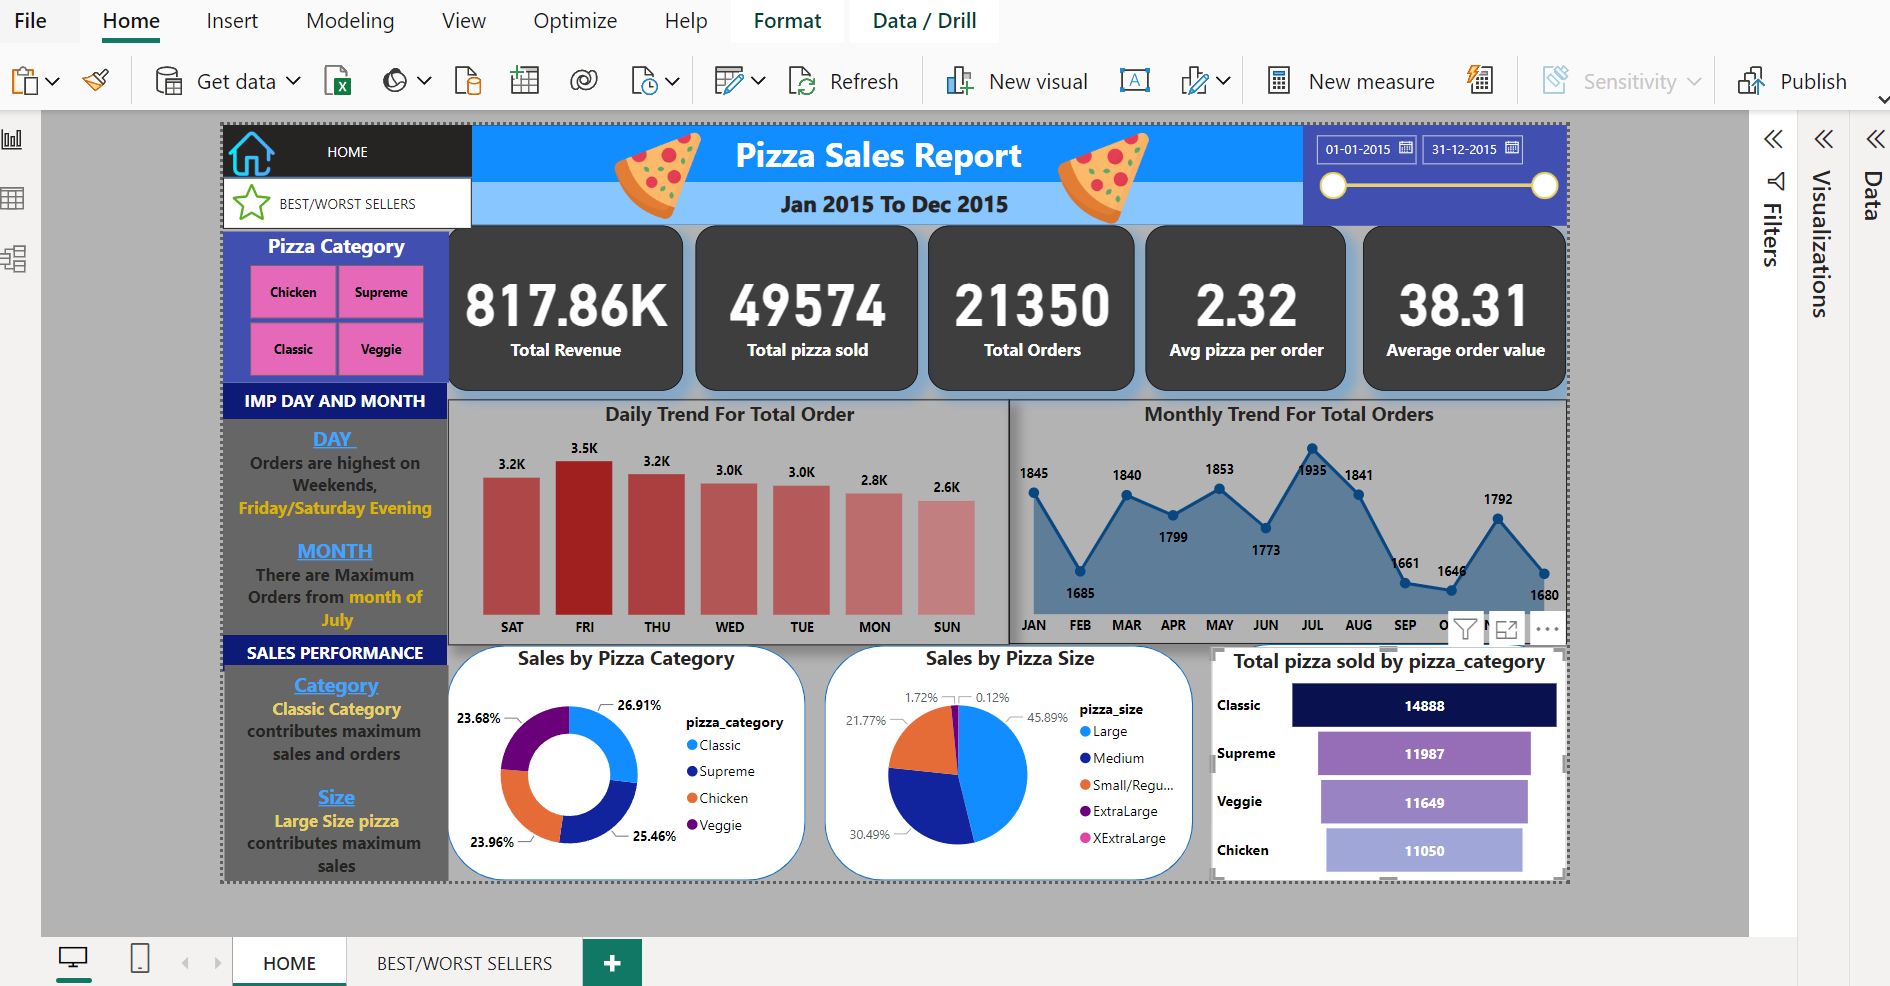

The page's visual inventory and layout, read from the dashboard file:
{"tool":"powerbi","page":{"name":"HOME","canvas":[1280,720],"ordinal":0},"visuals":[{"type":"card","fields":{"Values":["pizza_sales.Total Revenue"]},"box":[213.3,95.3,225.4,157.4],"z":0},{"type":"card","fields":{"Values":["pizza_sales.Total pizza sold"]},"box":[449.4,95.3,211.8,157.4],"z":1000},{"type":"card","fields":{"Values":["pizza_sales.Total Orders"]},"box":[671.8,95.3,196.7,157.4],"z":2000},{"type":"card","fields":{"Values":["pizza_sales.Avg pizza per order"]},"box":[879.1,95.3,190.6,157.4],"z":3000},{"type":"card","fields":{"Values":["pizza_sales.Average order value"]},"box":[1086.3,95.3,193.7,157.4],"z":4000},{"type":"shape","box":[0,0,1280,95.3],"z":5000},{"type":"textbox","box":[449.4,0,348,65.1],"z":6000},{"type":"textbox","box":[0,54.5,1280,40.9],"z":7000},{"type":"columnChart","title":"Daily Trend For Total Order","fields":{"Category":["pizza_sales.Daily Orders"],"Y":["pizza_sales.Total Orders"]},"box":[213.8,261.9,534.6,234],"z":8000},{"type":"areaChart","title":"Monthly Trend For Total Orders","fields":{"Category":["pizza_sales.Monthly Orders"],"Y":["pizza_sales.Total Orders"]},"box":[748.5,261.9,531.5,232.4],"z":9000},{"type":"shape","box":[213.3,496.3,341.9,223.9],"z":10000},{"type":"shape","box":[941.1,494.8,338.9,223.9],"z":11000},{"type":"shape","box":[573.4,496.3,351,223.9],"z":12000},{"type":"donutChart","title":"Sales by Pizza Category","fields":{"Category":["pizza_sales.pizza_category"],"Y":["pizza_sales.Total Revenue"]},"box":[213.3,494.8,341.9,223.9],"z":13000},{"type":"pieChart","title":"Sales by Pizza Size","fields":{"Y":["pizza_sales.Total Revenue"],"Category":["pizza_sales.pizza_size"]},"box":[578,494.8,341.9,223.9],"z":14000},{"type":"funnel","fields":{"Category":["pizza_sales.pizza_category"],"Y":["pizza_sales.Total pizza sold"]},"box":[941.7,496.7,338.3,223.3],"z":15000},{"type":"textbox","box":[0,245.1,213.3,34.8],"z":16000},{"type":"textbox","box":[0,279.9,213.3,205.8],"z":17000},{"type":"textbox","box":[0,485.7,213.3,34.8],"z":18000},{"type":"textbox","box":[1.5,514.4,213.3,205.8],"z":19000},{"type":"slicer","title":"Pizza Category","fields":{"Values":["pizza_sales.pizza_category"]},"box":[0,100.7,215.4,144.1],"z":20000},{"type":"slicer","fields":{"Values":["pizza_sales.order_date"]},"box":[1029,0,251,96.1],"z":21000},{"type":"pageNavigator","box":[0,0,237.1,49.6],"z":22000},{"type":"pageNavigator","box":[0,49.6,237.1,49.6],"z":23000},{"type":"image","box":[0,0,54.2,54.2],"z":24000},{"type":"image","box":[0,49.6,54.2,46.5],"z":25000},{"type":"image","box":[345.6,0,136.4,96.1],"z":26000},{"type":"image","box":[787.2,0,102.3,100.7],"z":27000}]}

Visuals, with their boxes on the page's 1280x720 design canvas (x1, y1, x2, y2). These are canvas units, not pixel positions in the 1890x986 screenshot, which may show the page scaled, cropped or inside an application window:
card - pizza_sales.Total Revenue: l=213, t=95, r=439, b=253
card - pizza_sales.Total pizza sold: l=449, t=95, r=661, b=253
card - pizza_sales.Total Orders: l=672, t=95, r=868, b=253
card - pizza_sales.Avg pizza per order: l=879, t=95, r=1070, b=253
card - pizza_sales.Average order value: l=1086, t=95, r=1280, b=253
shape: l=0, t=0, r=1280, b=95
textbox: l=449, t=0, r=797, b=65
textbox: l=0, t=54, r=1280, b=95
"Daily Trend For Total Order" columnChart: l=214, t=262, r=748, b=496
"Monthly Trend For Total Orders" areaChart: l=748, t=262, r=1280, b=494
shape: l=213, t=496, r=555, b=720
shape: l=941, t=495, r=1280, b=719
shape: l=573, t=496, r=924, b=720
"Sales by Pizza Category" donutChart: l=213, t=495, r=555, b=719
"Sales by Pizza Size" pieChart: l=578, t=495, r=920, b=719
funnel - pizza_sales.pizza_category x pizza_sales.Total pizza sold: l=942, t=497, r=1280, b=720
textbox: l=0, t=245, r=213, b=280
textbox: l=0, t=280, r=213, b=486
textbox: l=0, t=486, r=213, b=520
textbox: l=2, t=514, r=215, b=720
"Pizza Category" slicer: l=0, t=101, r=215, b=245
slicer - pizza_sales.order_date: l=1029, t=0, r=1280, b=96
pageNavigator: l=0, t=0, r=237, b=50
pageNavigator: l=0, t=50, r=237, b=99
image: l=0, t=0, r=54, b=54
image: l=0, t=50, r=54, b=96
image: l=346, t=0, r=482, b=96
image: l=787, t=0, r=890, b=101
